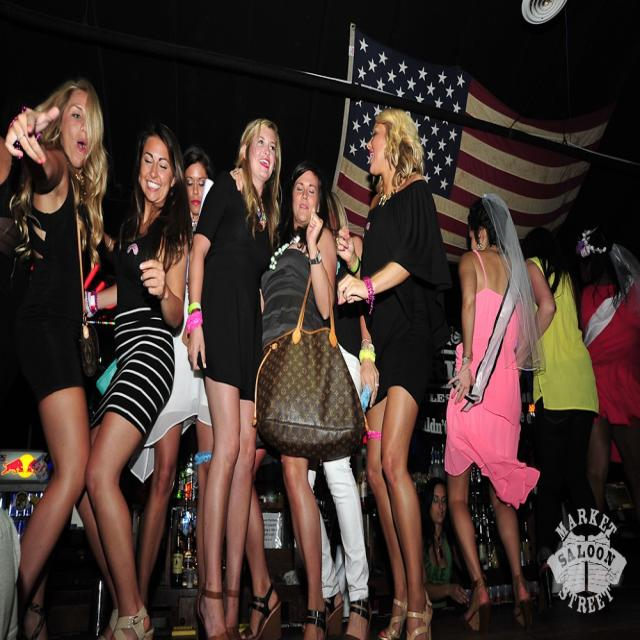body: (332, 100, 449, 639), (73, 116, 192, 639), (237, 157, 365, 640), (3, 76, 112, 639), (184, 113, 287, 639), (442, 190, 547, 614), (134, 143, 221, 623), (301, 189, 379, 640), (521, 225, 601, 613), (578, 228, 640, 522), (418, 474, 469, 639), (0, 500, 28, 637)
